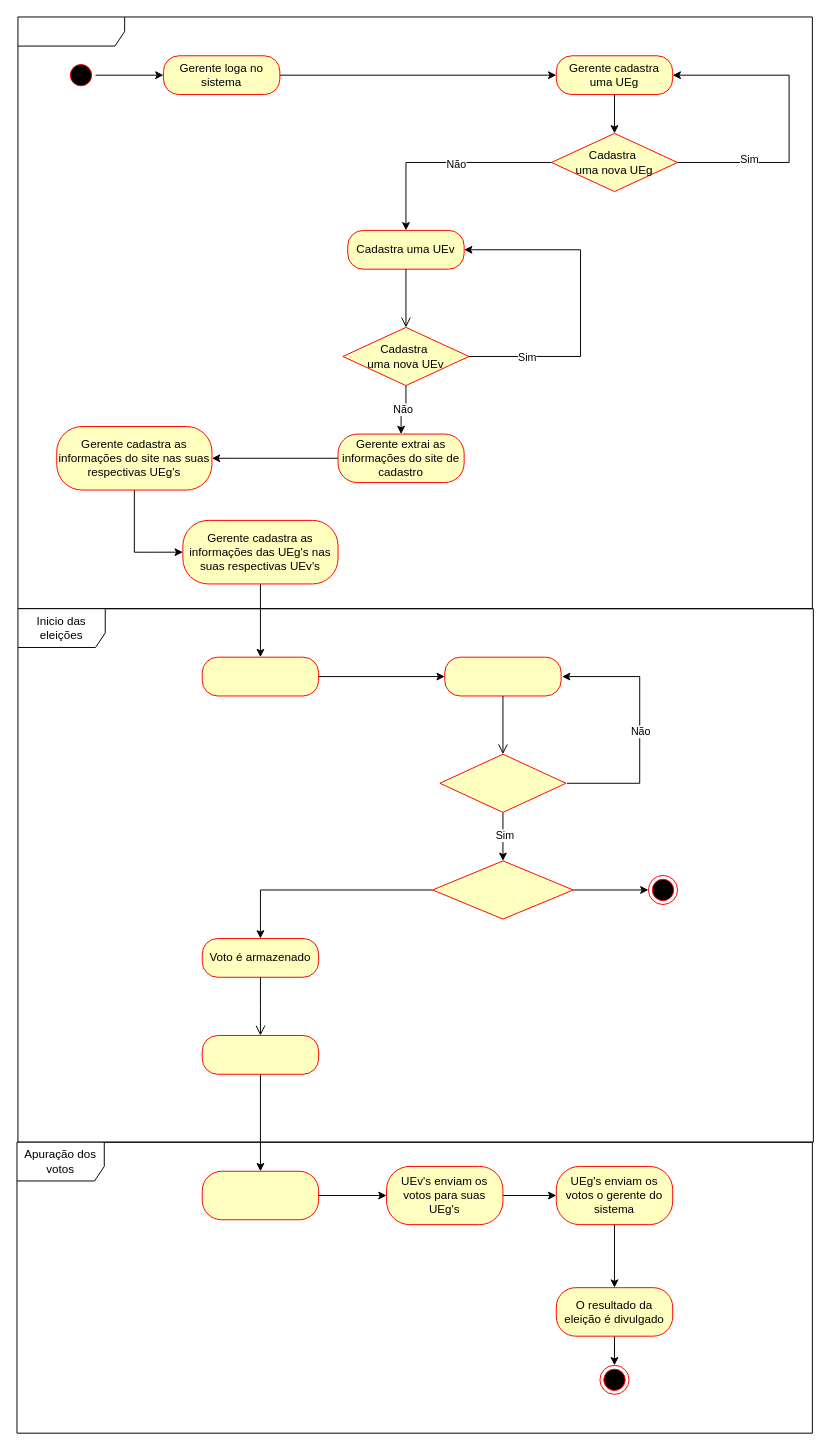
This 830x1450 diagram has some shape labels left out. The shapes that lost their labels are listed below. From the top down, each one's centre as x and y in pixels, then its label:
At point (414, 312): "Cadastro do Sistema".
At point (260, 676): "Eleitor acessa a UEv".
At point (502, 676): "Eleitor seleciona o candidato".
At point (502, 782): "Confirma o candidato".
At point (502, 889): "Eleitor está apto a votar".
At point (260, 1054): "Voto do eleitor é registrado".
At point (260, 1195): "Gerente do sistema inicia a apuração dos voto".
